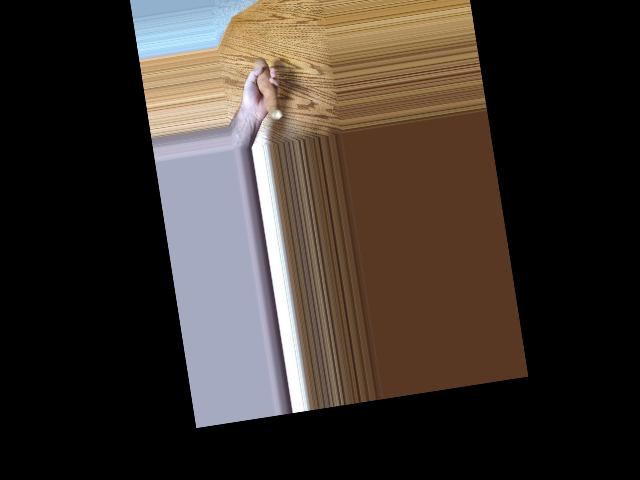sweet_potato: (248, 51, 281, 124)
